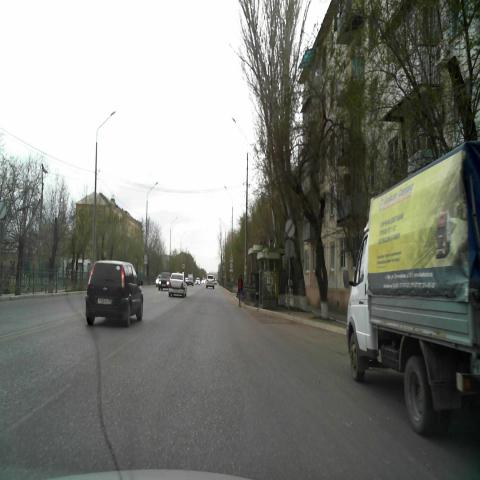3_31: (284, 218, 295, 238)
